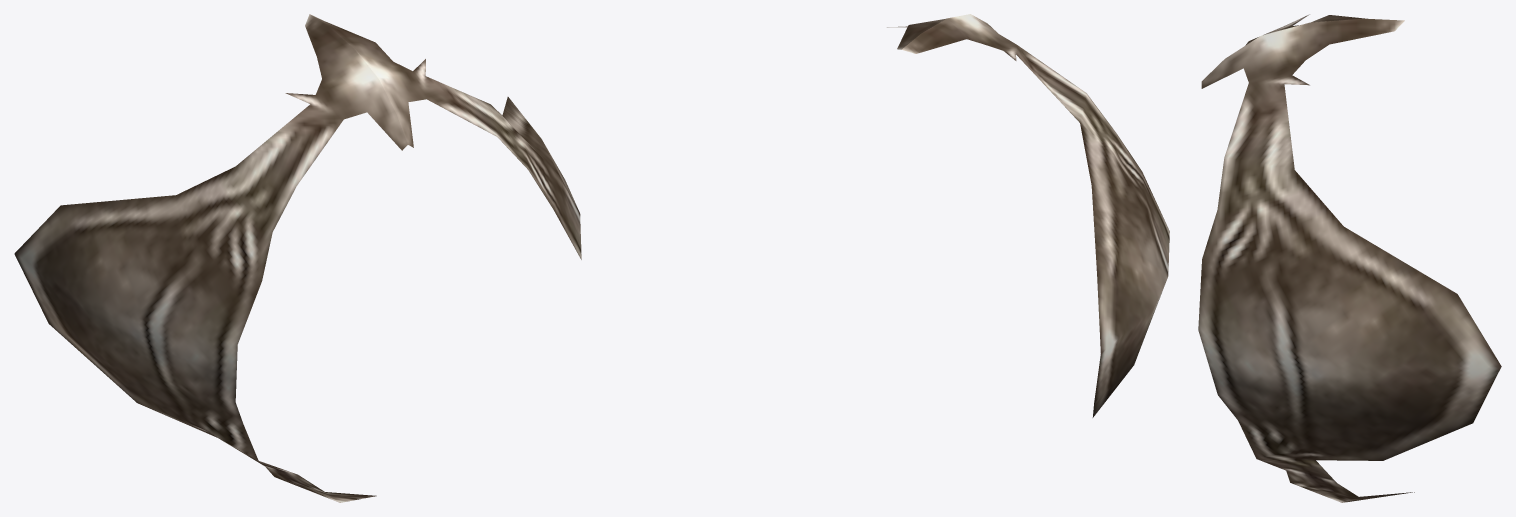
File: ex01shadow_master_7_belt.glb
The picture shows the model from 3 angles, left to right: view 1: azimuth 30°, elevation 25°; view 2: azimuth 150°, elevation 25°; view 3: azimuth 270°, elevation 25°; orthographic projection. The views are drawn at different scales.
Parts seen in each view (by area): view 1: model_ex01shadow_master_7_belt; view 2: model_ex01shadow_master_7_belt; view 3: model_ex01shadow_master_7_belt.
Boxes of the visible parts, left/top/right/bottom form: model_ex01shadow_master_7_belt: left=14, top=14, right=581, bottom=502; model_ex01shadow_master_7_belt: left=887, top=14, right=1169, bottom=417; model_ex01shadow_master_7_belt: left=1198, top=14, right=1501, bottom=502.
Size of the model in its own units: 0.541 by 0.4868 by 0.2764.
1 material, 1 textured.
